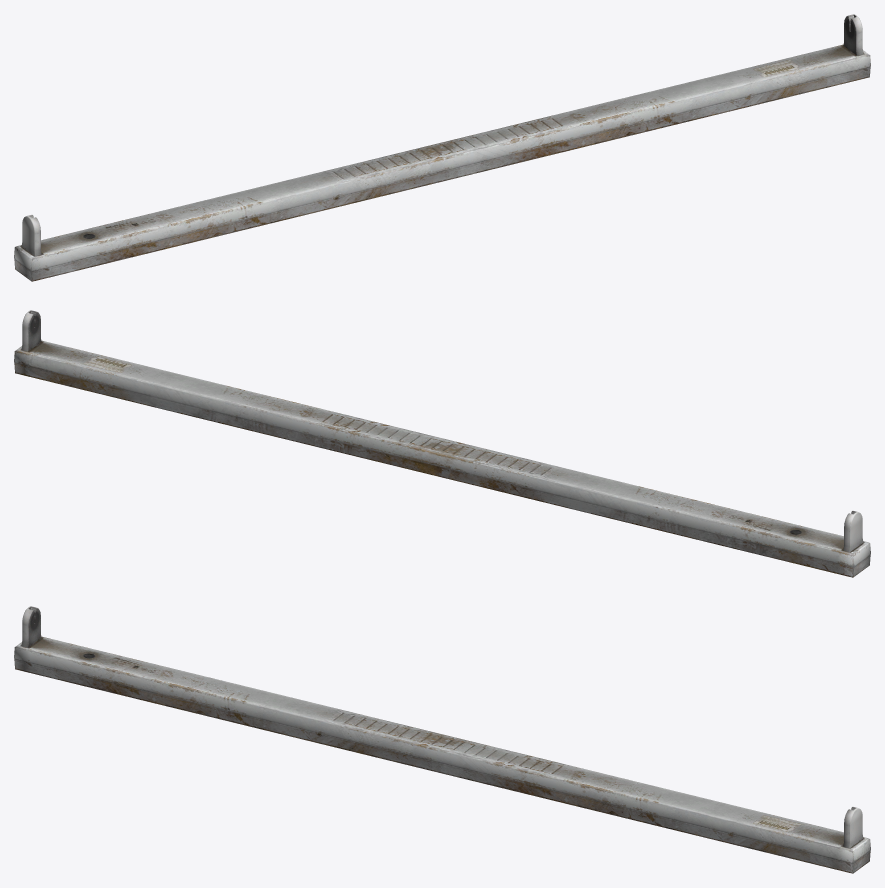
Rendered from fluorescentBase40W_a.FBX.
3 views of the same model, one above another, from view 1: azimuth 30°, elevation 25°; view 2: azimuth 150°, elevation 25°; view 3: azimuth 330°, elevation 25° (orthographic).
Visible parts, largest first — view 1: SM_Fluorescent_Base_40W; view 2: SM_Fluorescent_Base_40W; view 3: SM_Fluorescent_Base_40W.
Part boxes in pixels (x1,y1,x2,y2): SM_Fluorescent_Base_40W: (14,14,870,281); SM_Fluorescent_Base_40W: (14,310,870,577); SM_Fluorescent_Base_40W: (14,606,870,873).
Bounding box in the file's own units: 123 × 8.05 × 4.49.
Materials: 1 (1 with a texture image).
